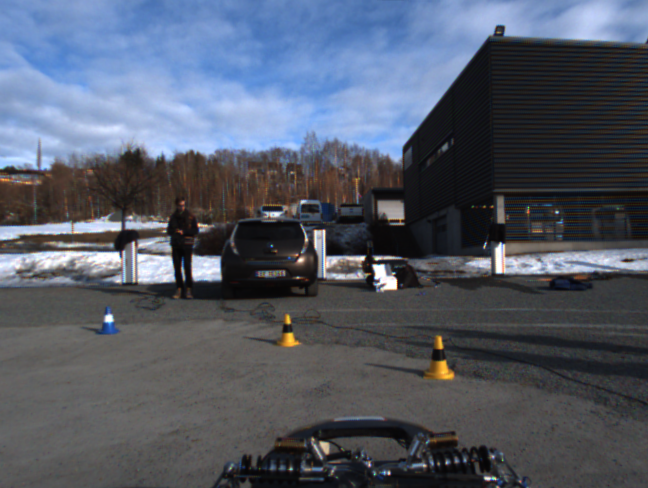cone-small-blue: (95, 306, 120, 334)
cone-small-yellow: (423, 336, 455, 380), (274, 314, 300, 346)
